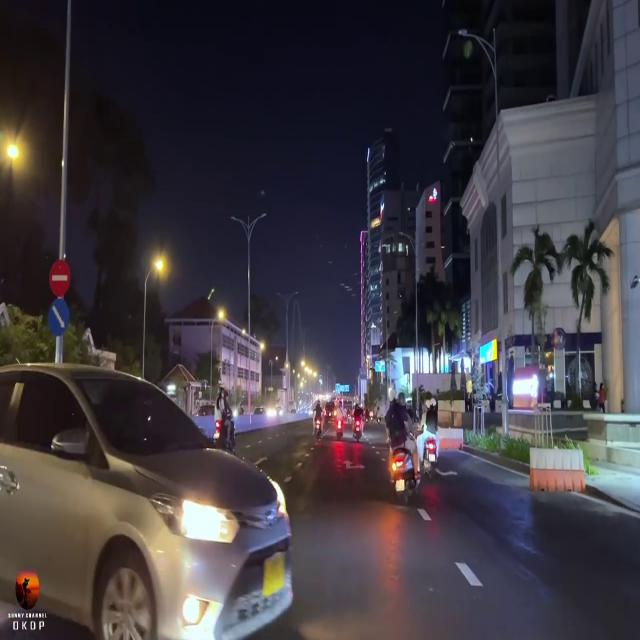bien_vang: (262, 552, 290, 596)
